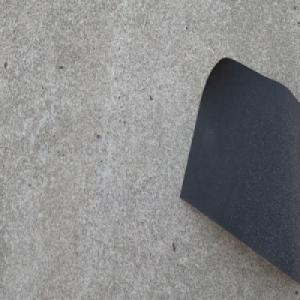PaintChip: (178, 56, 300, 286)
